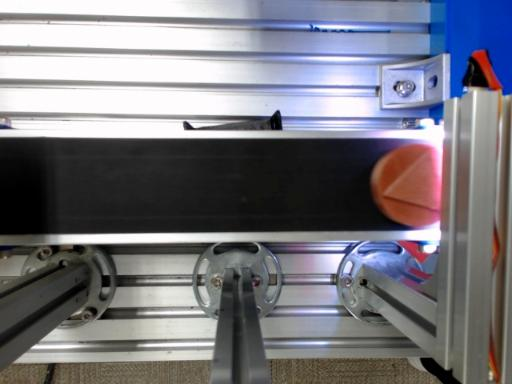Brown_Waper: (371, 144, 441, 226)
